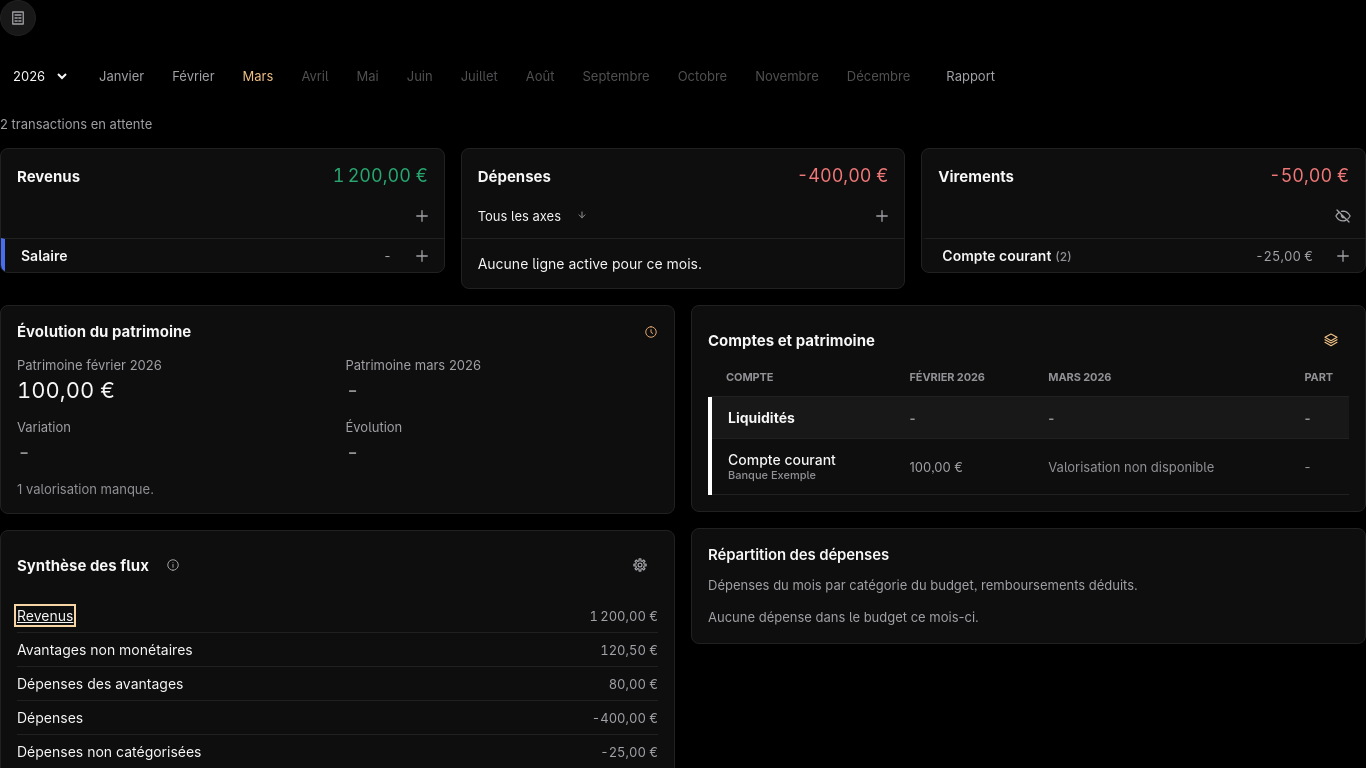
MonthlyBudgetPage › explains empty flow sections and exposes explanations through metric label controls
Expected: the button named "Configurer l’affichage" is empty, [622, 547, 658, 583]
Step 1. Click the button with aria-label "Expliquer : Revenus" → (45, 616), box [17, 607, 73, 624]
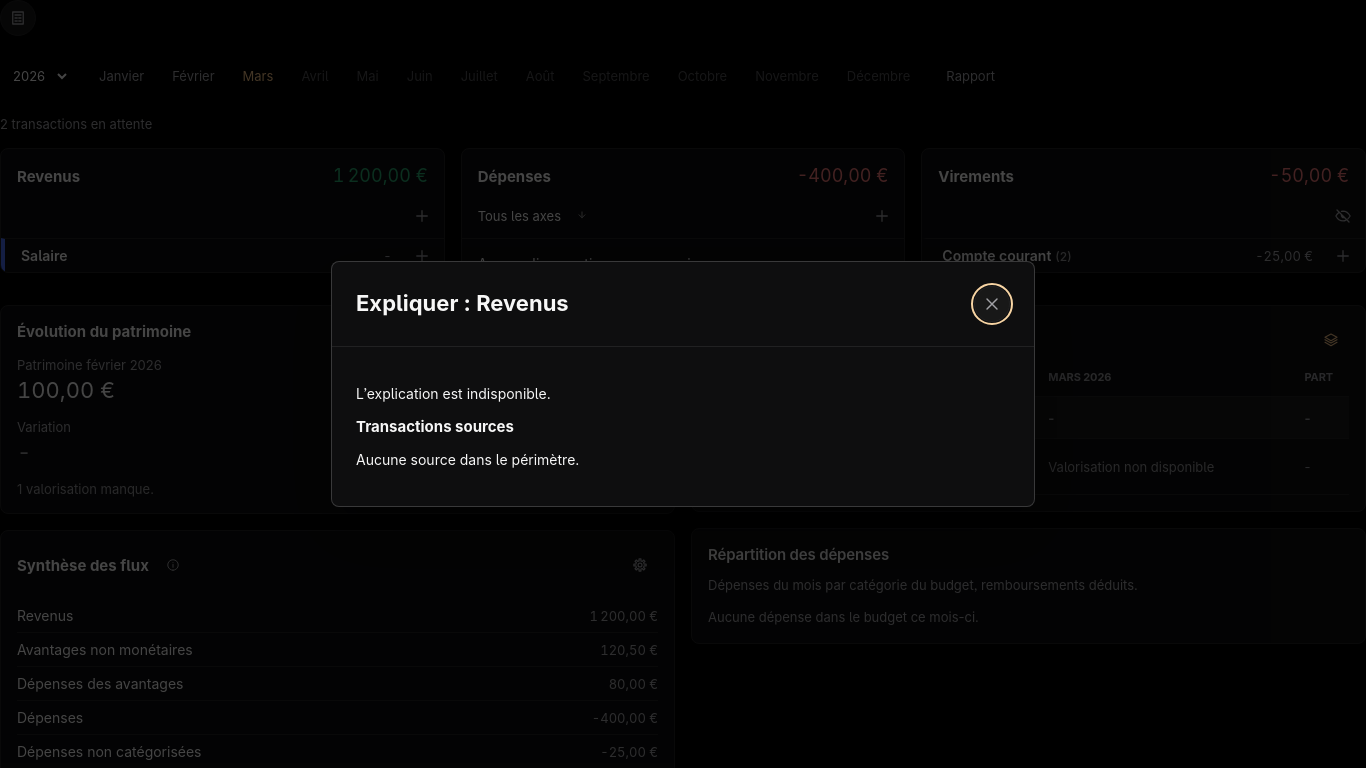
Expected: the dialog "Expliquer : Revenus" is shown, [331, 261, 1035, 507]
